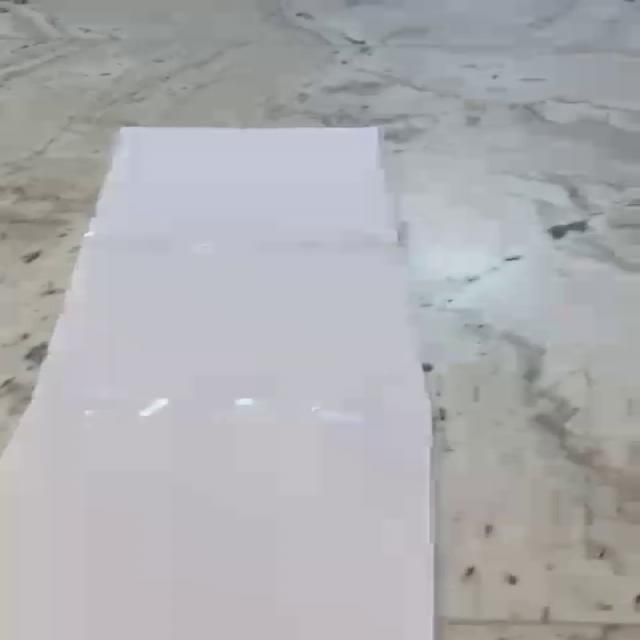road: (0, 126, 437, 640)
